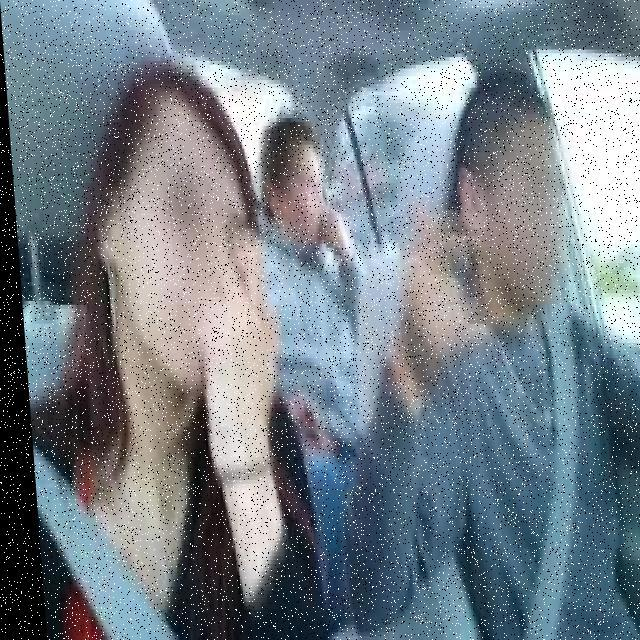seatbelt: (432, 291, 632, 640), (23, 397, 224, 640)
